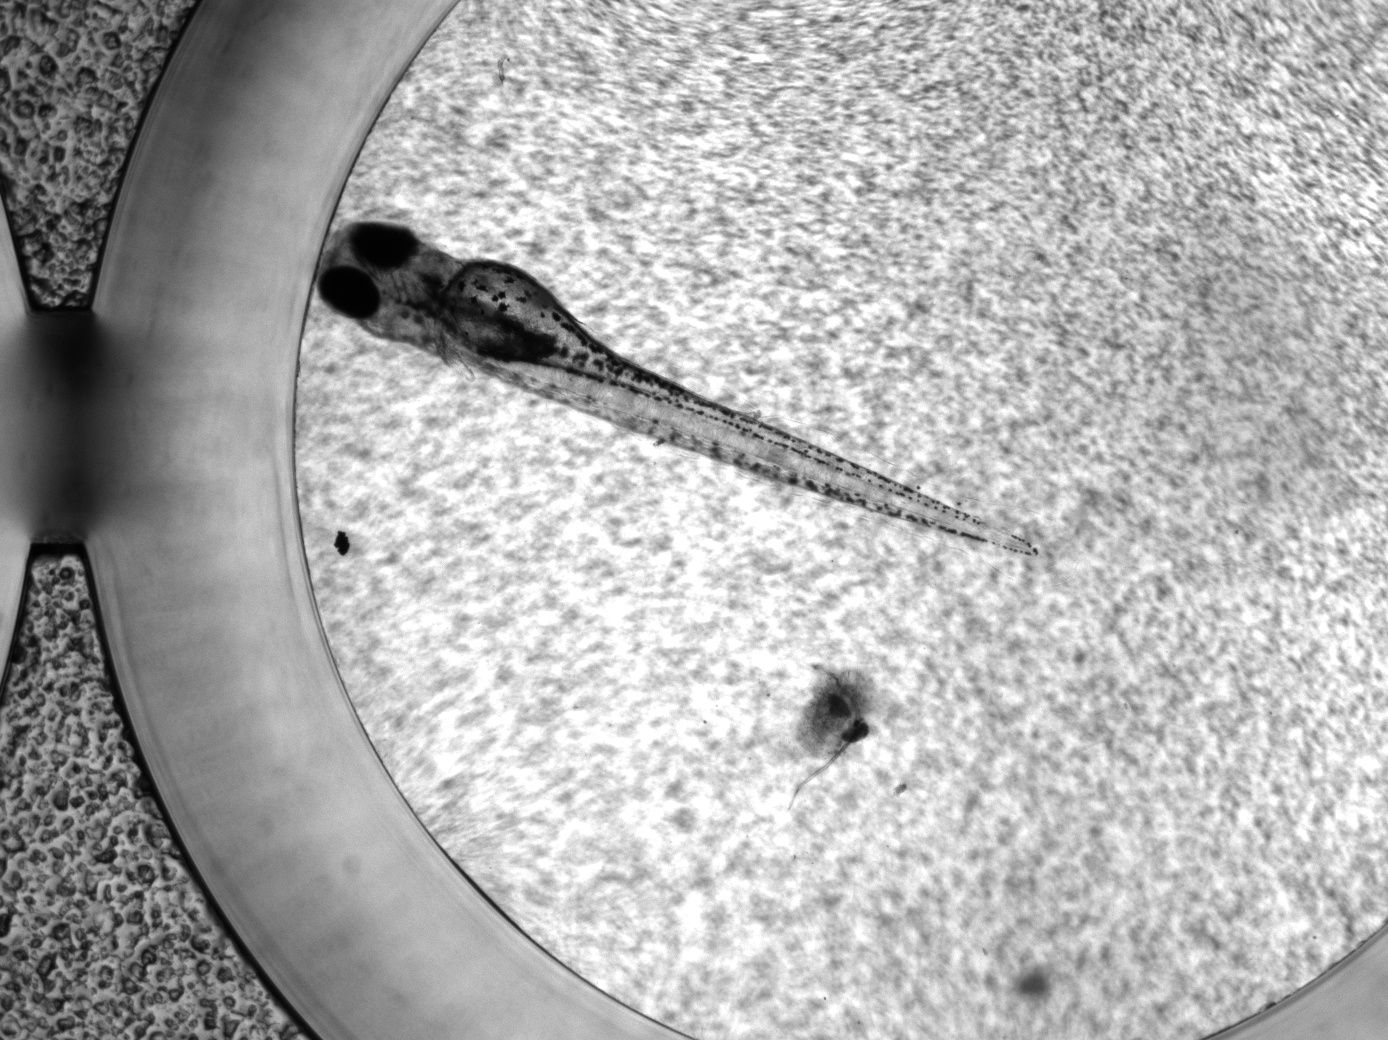embryo: (315, 222, 1039, 557)
eye: (317, 265, 379, 318), (351, 223, 414, 272)
yolksac: (442, 260, 567, 361)
